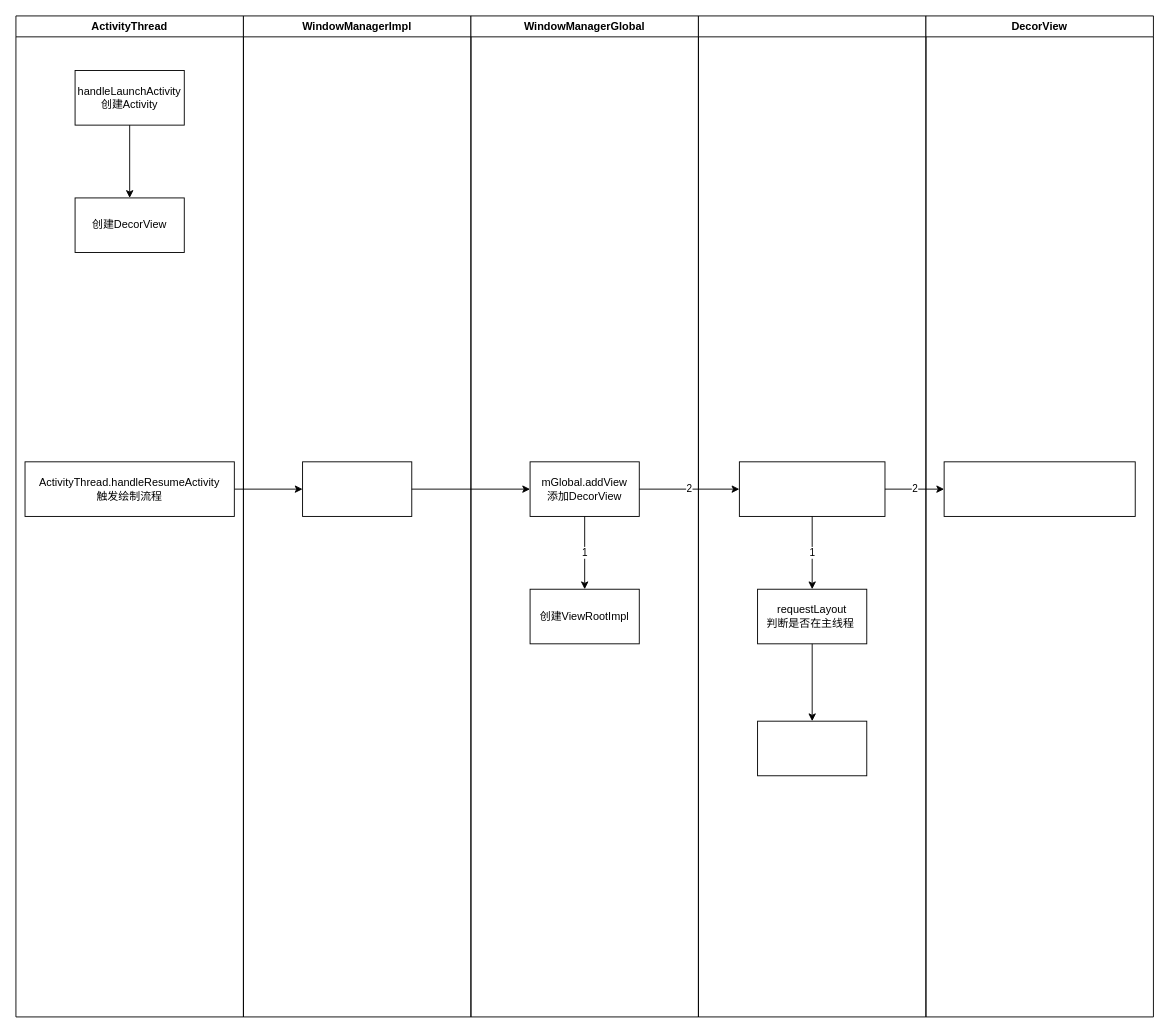
The diagram is 1169 pixels wide and 1033 high, and some of its shapes have lost their labels. Each missing label, with the box of its shape:
root.setView DecorView和Window绑定，启动绘制: (738, 461, 885, 516)
scheduleTraversals: (757, 720, 867, 776)
View.assignParent(this) DecorView指定ViewRootImpl为父类: (943, 461, 1135, 516)
ViewRootImpl: (698, 15, 926, 1017)
VM.addView 添加DecorView: (302, 461, 412, 516)
